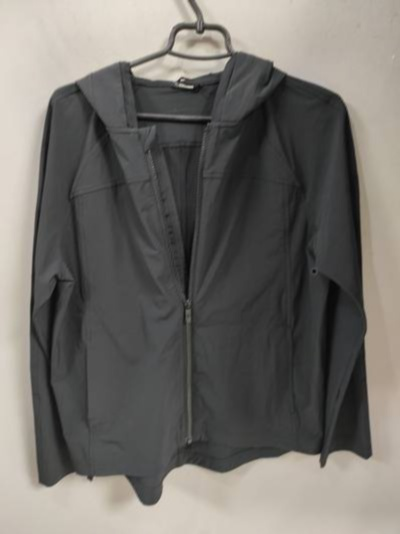Hoodie: (0, 39, 391, 510)
